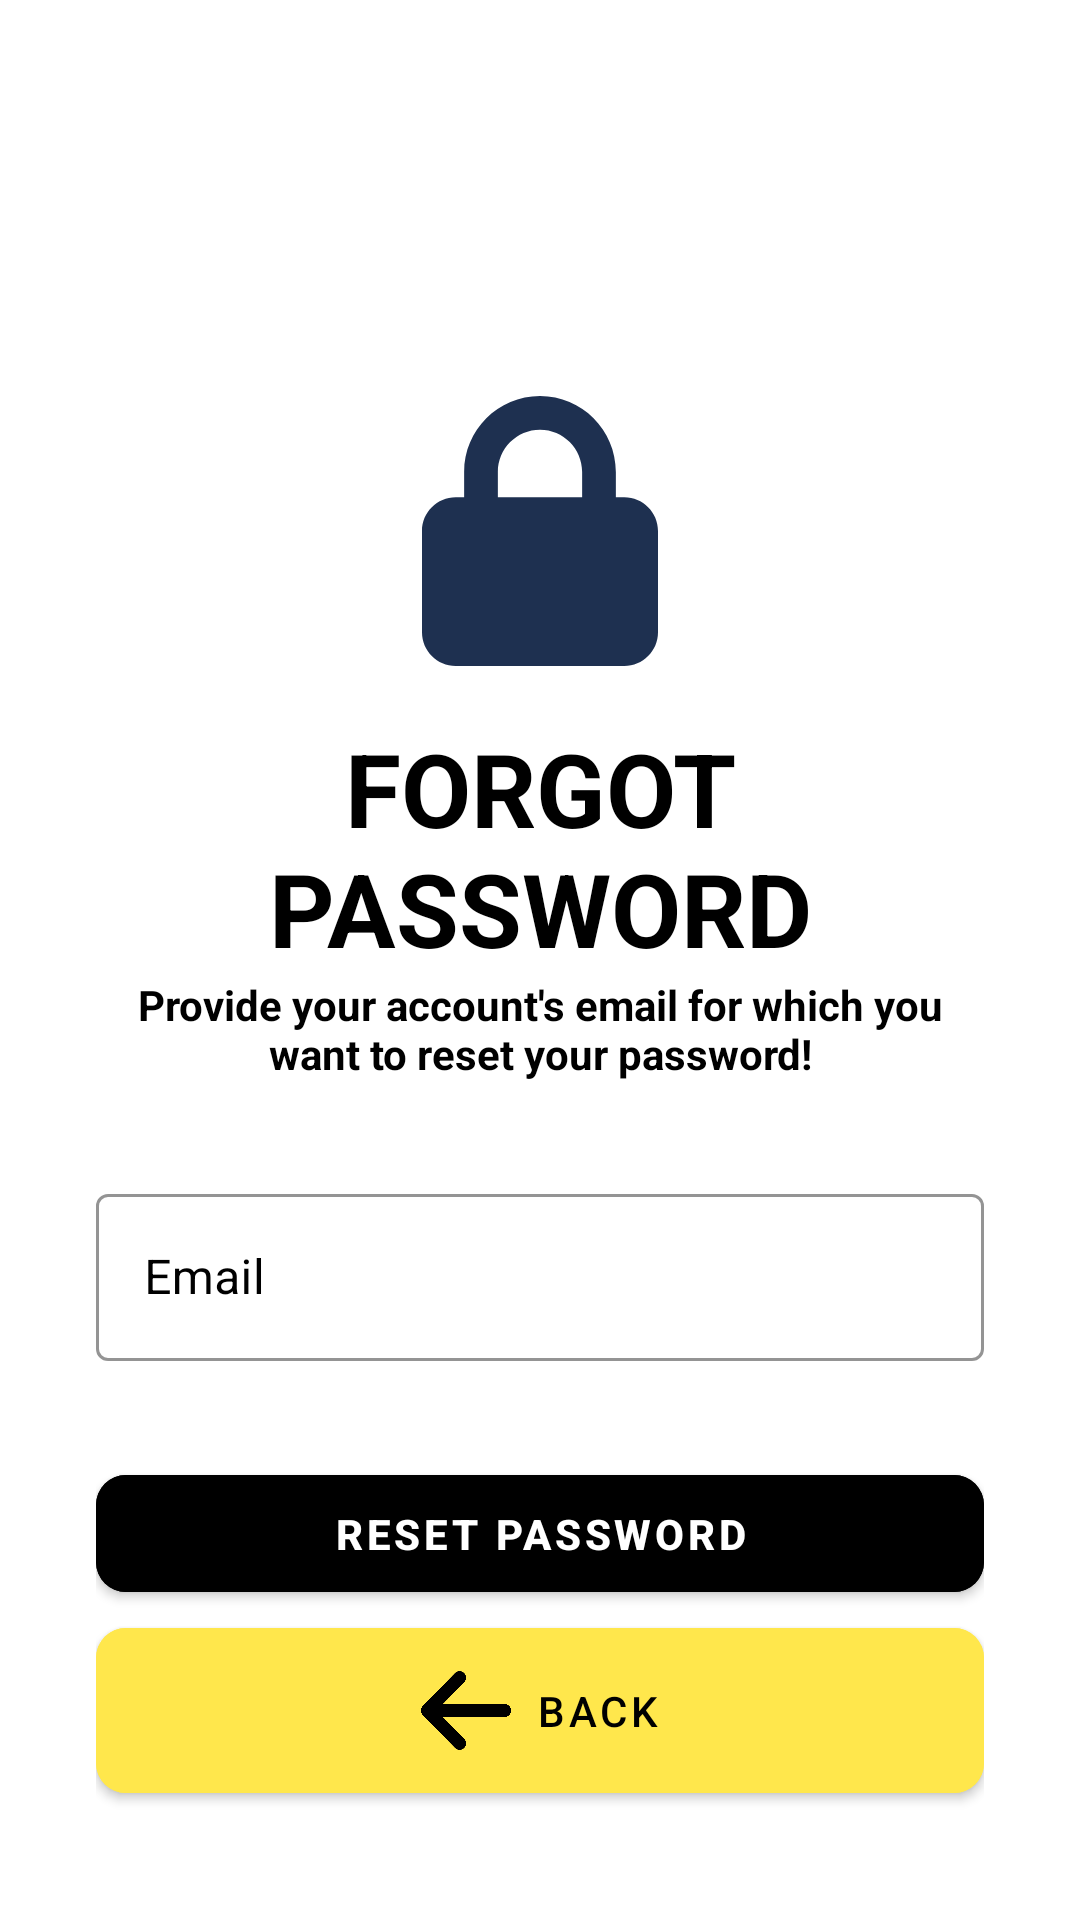

Icons on this 1080w x 1920h Android screen, each with its box as (x1, y1, x2, y2):
lock: (422, 396, 658, 666)
